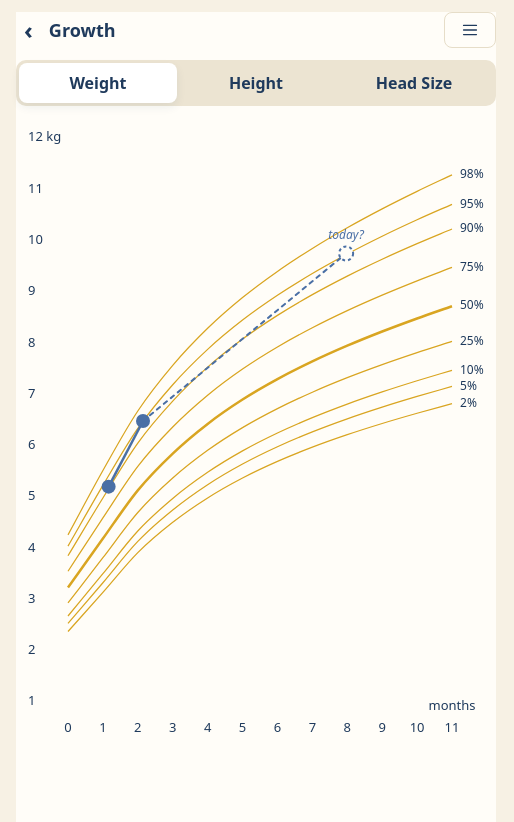
Test: GrowthDetailPage › switches to the list view showing all entries grouped by date, with the metric, percentile and age on separate lines
This screenshot has width=514, height=822.
Click the button named "Show list" at (470, 30), box [444,12,496,48]
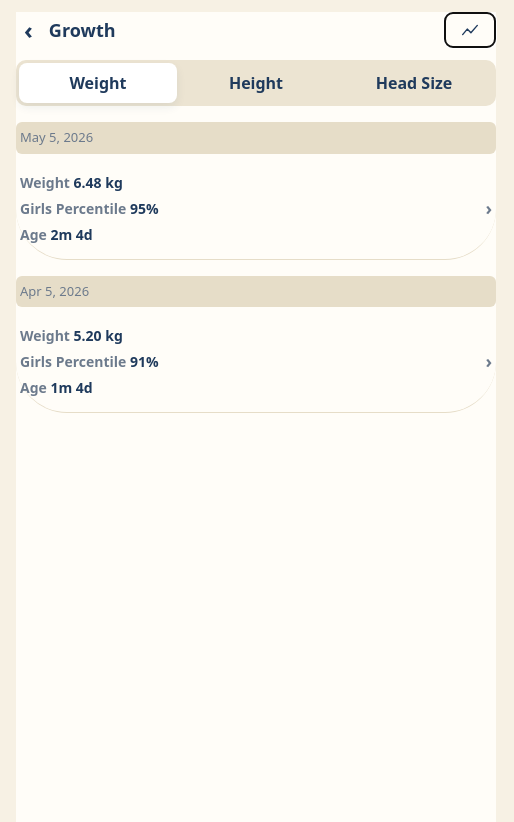
Expected: the text "6.48 kg" is shown, [74,172,123,192]
Expected: the text "5.20 kg" is shown, [74,326,123,345]
Expected: the text "Girls Percentile 95%" is shown, [20,198,159,218]
